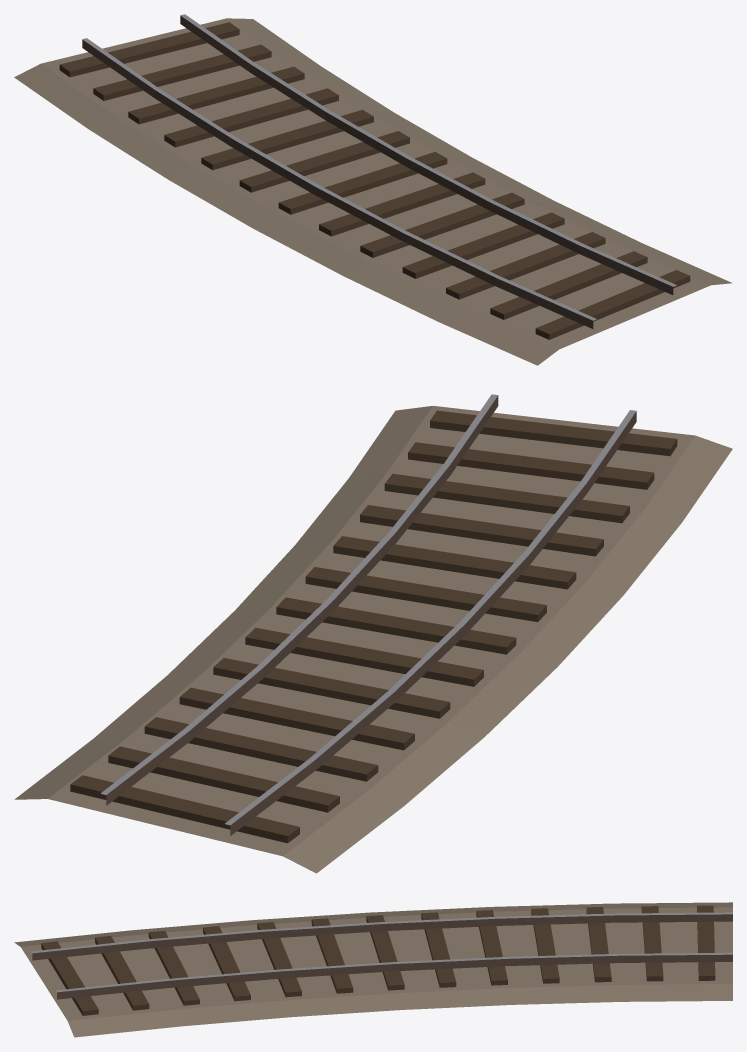
The model's file is track_curve.glb.
The picture shows the model from 3 angles, top to bottom: view 1: azimuth 30°, elevation 25°; view 2: azimuth 150°, elevation 25°; view 3: azimuth 270°, elevation 25°; orthographic projection. The views are drawn at different scales.
Visible parts, largest first — view 1: Body; view 2: Body; view 3: Body.
Boxes of the visible parts, box(x1,y1,x2,y2) form: Body: box(14, 14, 732, 365); Body: box(14, 394, 732, 873); Body: box(14, 902, 732, 1037).
Bounding box in the file's own units: 4.8 × 0.3 × 10.81.
